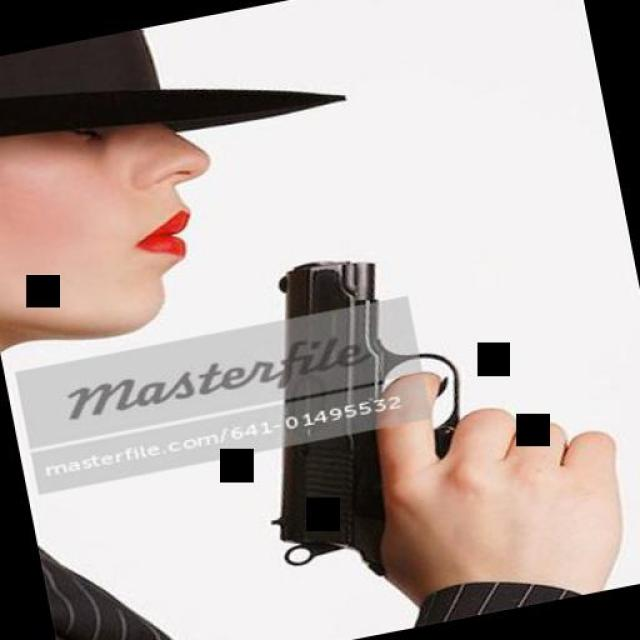gun: (201, 232, 534, 596)
